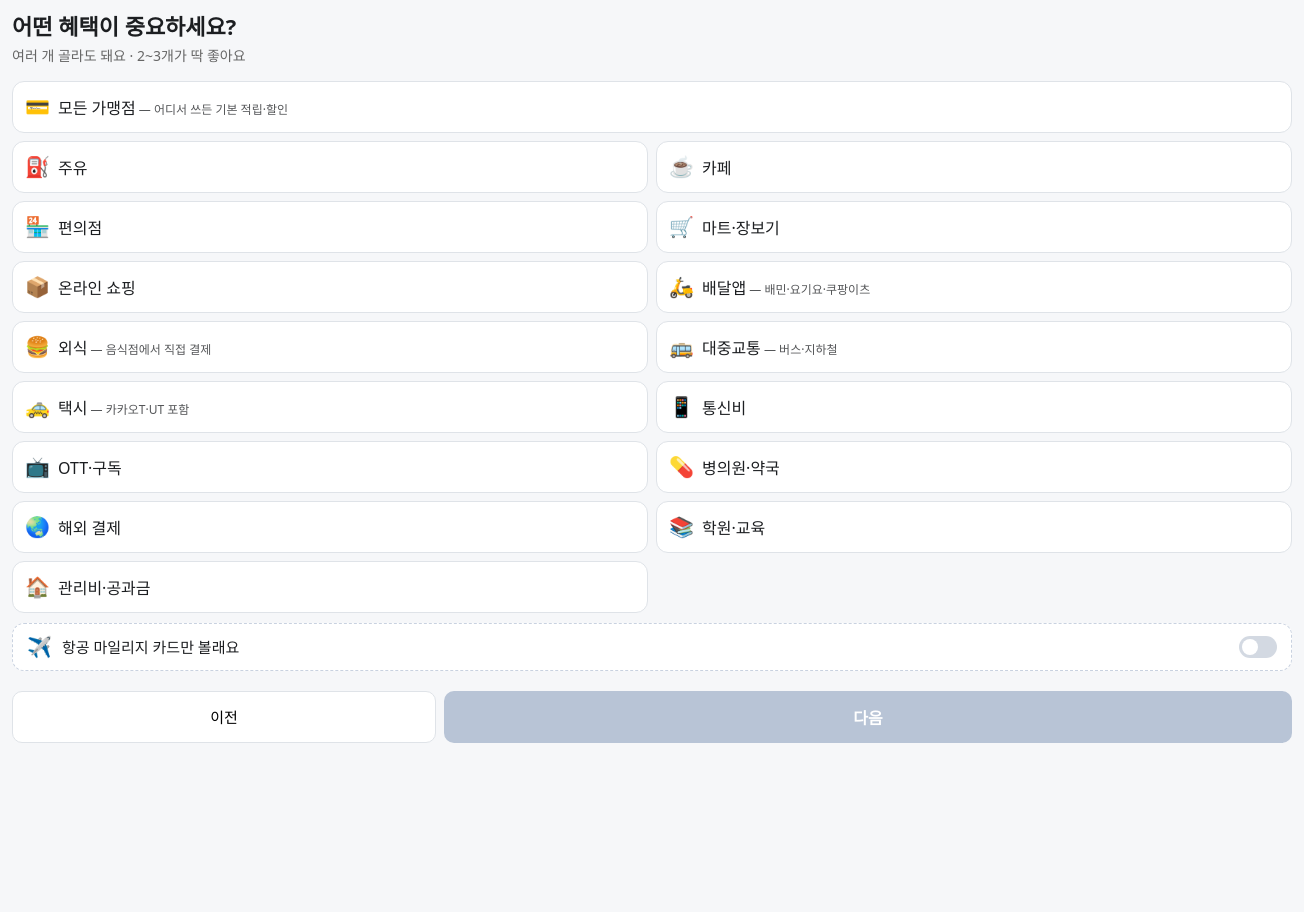
하나도 안 고르면 다음 비활성, 고르면 활성
Expected: the button "다음" is disabled, [444, 691, 1292, 743]
Click the button "⛽ 주유" at (37, 166), box [12, 141, 648, 193]
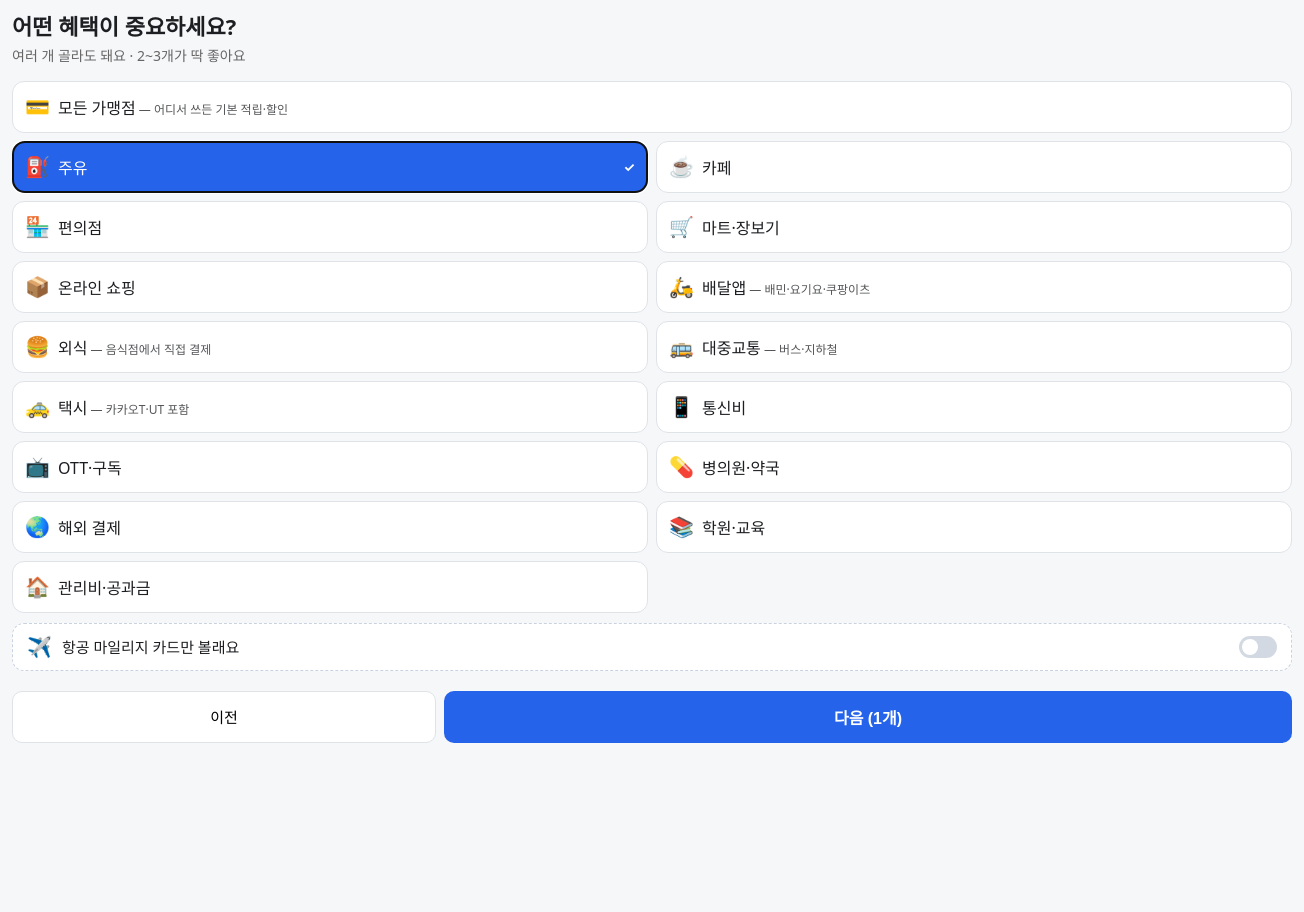
Expected: the button "다음 (1개)" is enabled, [444, 691, 1292, 743]
